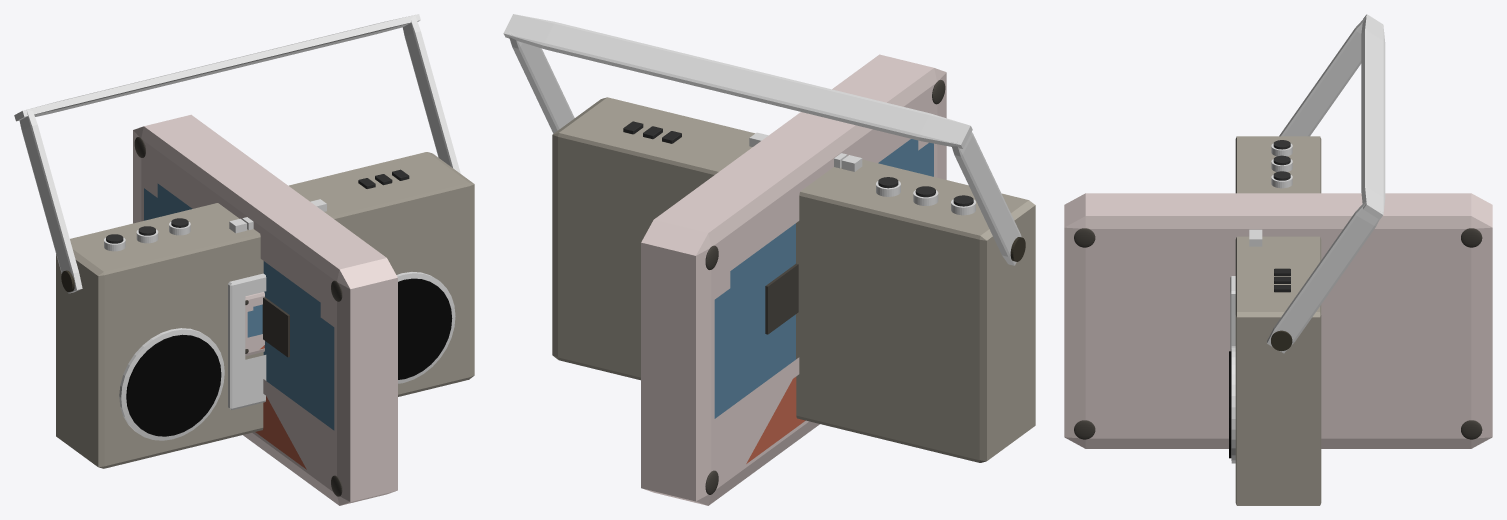
The model's file is boombox.fbx.
3 renders of one model, left to right at view 1: azimuth 30°, elevation 25°; view 2: azimuth 150°, elevation 25°; view 3: azimuth 270°, elevation 25°, orthographic. The views are drawn at different scales.
Visible parts, largest first — view 1: Cube, Cube.002, Cube.003, Cylinder, Cylinder.003, Cube.016, Cube.001, Cube.015, Cube.014, Cylinder.001, Cube.005, Cube.004 (+2 smaller); view 2: Cube, Cube.002, Cube.016, Cube.003, Cube.015, Cube.014, Cube.005, Cube.004; view 3: Cube.002, Cube, Cube.016, Cube.014, Cube.015, Cylinder.002.
Part boxes in pixels (x1,y1,x2,y2): Cube: (56,152,474,468); Cube.002: (133,114,397,505); Cube.003: (144,183,334,430); Cylinder: (126,334,221,436); Cylinder.003: (398,278,452,379); Cube.016: (14,14,420,121); Cube.001: (228,273,266,409); Cube.015: (19,110,82,293); Cube.014: (402,15,460,173); Cylinder.001: (119,328,224,440); Cube.005: (262,297,289,357); Cube.004: (255,396,306,469); Cube: (552,97,1035,462); Cube.002: (641,54,946,505); Cube.016: (503,14,972,148); Cube.003: (714,139,933,418); Cube.015: (950,132,1021,265); Cube.014: (508,31,574,133); Cube.005: (765,263,798,334); Cube.004: (746,377,805,463); Cube.002: (1064,193,1492,448); Cube: (1235,136,1321,505); Cube.016: (1361,14,1385,219); Cube.014: (1267,202,1383,353); Cube.015: (1279,16,1383,136); Cylinder.002: (1231,346,1235,463).
Bounding box in the file's own units: 211 × 170 × 200.
